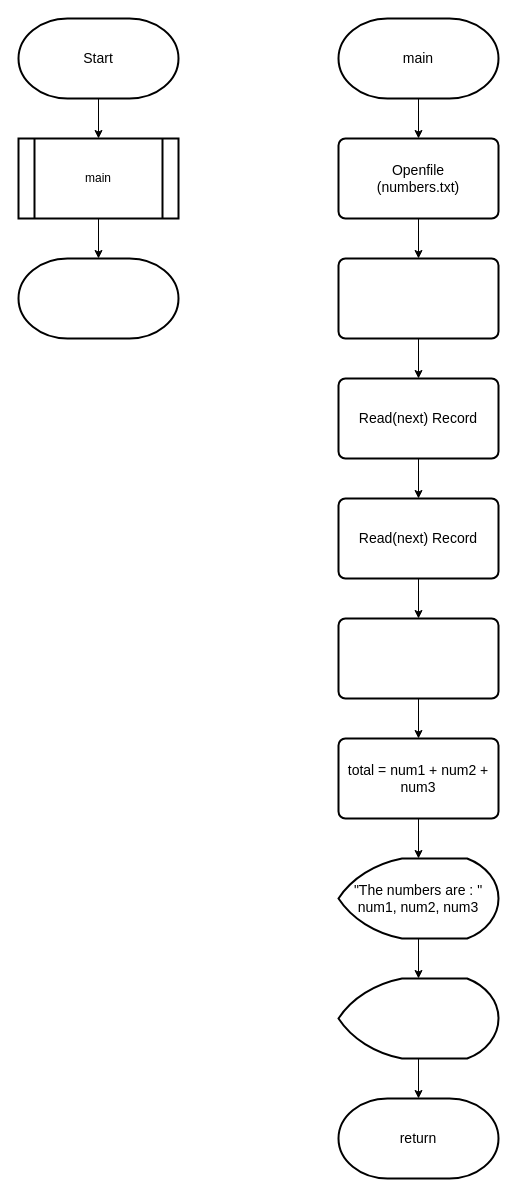
The diagram is 516 pixels wide and 1196 high, and some of its shapes have lost their labels. Here are the shapes that lost their labels. From the top down, the box of each, then its label:
(17, 257, 179, 339): End
(337, 257, 499, 339): Read(first) Record
(337, 617, 499, 699): closefile
(337, 977, 499, 1059): "Their total is : " total
